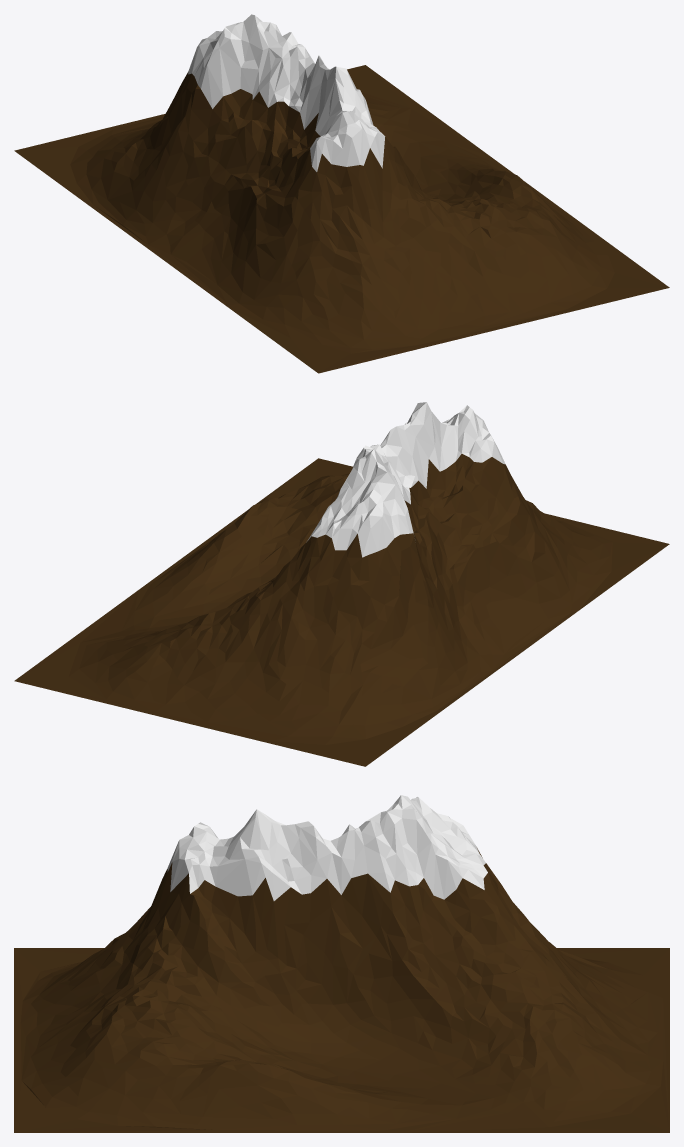
Rendered from mouintains_1.glb.
The picture shows the model from 3 angles, top to bottom: view 1: azimuth 30°, elevation 25°; view 2: azimuth 150°, elevation 25°; view 3: azimuth 270°, elevation 25°; orthographic projection. The views are drawn at different scales.
Visible parts, largest first — view 1: Landscape; view 2: Landscape; view 3: Landscape.
Part boxes in pixels (box(x1,y1,x2,y2)): Landscape: box(14, 14, 669, 373); Landscape: box(14, 402, 669, 766); Landscape: box(14, 795, 669, 1132).
Size of the model in its own units: 12 by 6.48 by 18.
